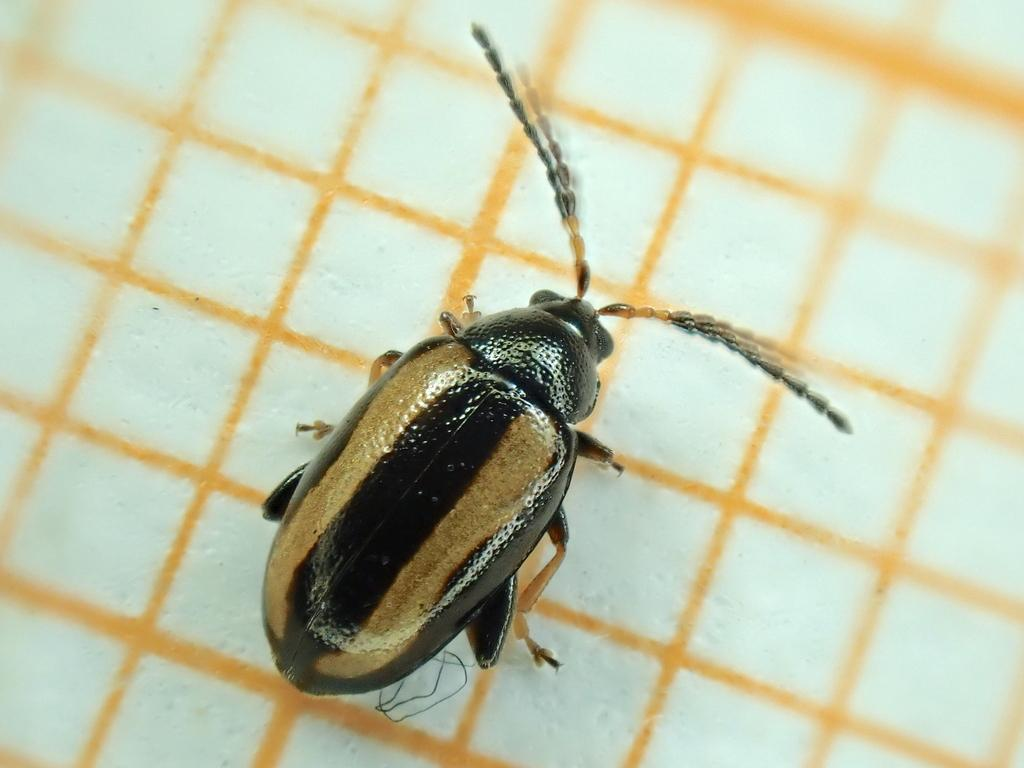flea_beetle: (169, 0, 920, 768)
